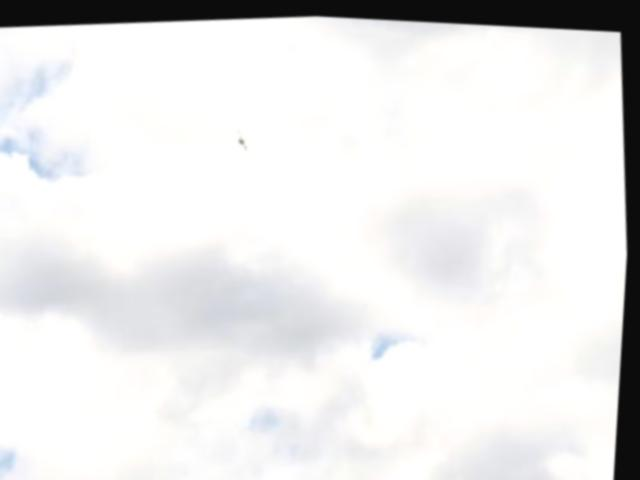uav: (233, 120, 254, 153)
